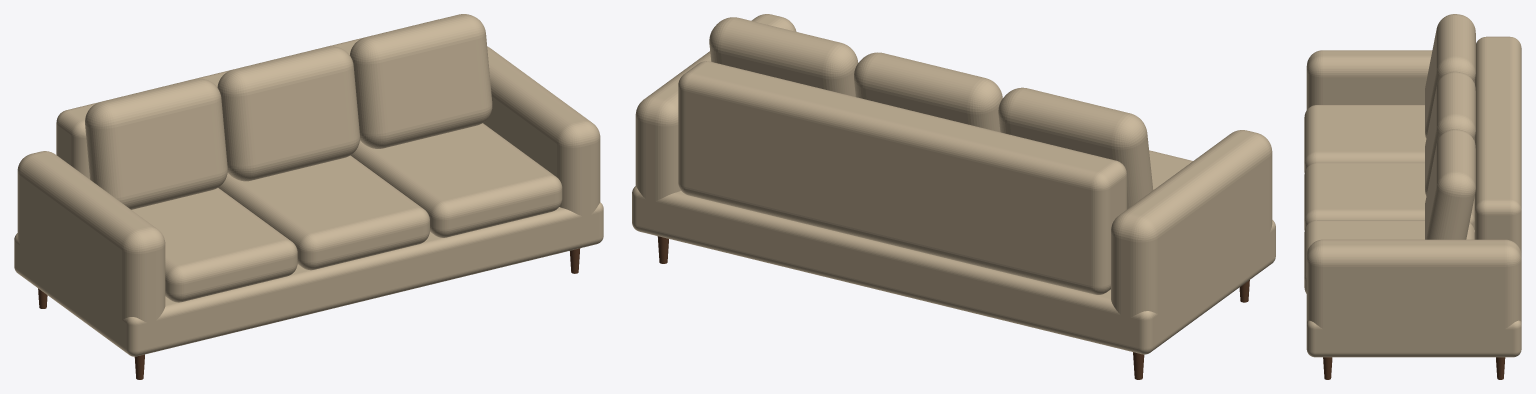
The model's file is sofa.glb.
The picture shows the model from 3 angles, left to right: view 1: azimuth 30°, elevation 25°; view 2: azimuth 150°, elevation 25°; view 3: azimuth 270°, elevation 25°; orthographic projection. The views are drawn at different scales.
Visible parts, largest first — view 1: Fabric, Legs; view 2: Fabric, Legs; view 3: Fabric, Legs.
Boxes of the visible parts, bbox=[...] form: Fabric: bbox=[14, 14, 603, 356]; Legs: bbox=[38, 248, 580, 379]; Fabric: bbox=[632, 14, 1275, 354]; Legs: bbox=[657, 236, 1249, 379]; Fabric: bbox=[1304, 14, 1521, 357]; Legs: bbox=[1323, 357, 1505, 379].
Size of the model in its own units: 2.1 by 0.8987 by 0.93.
